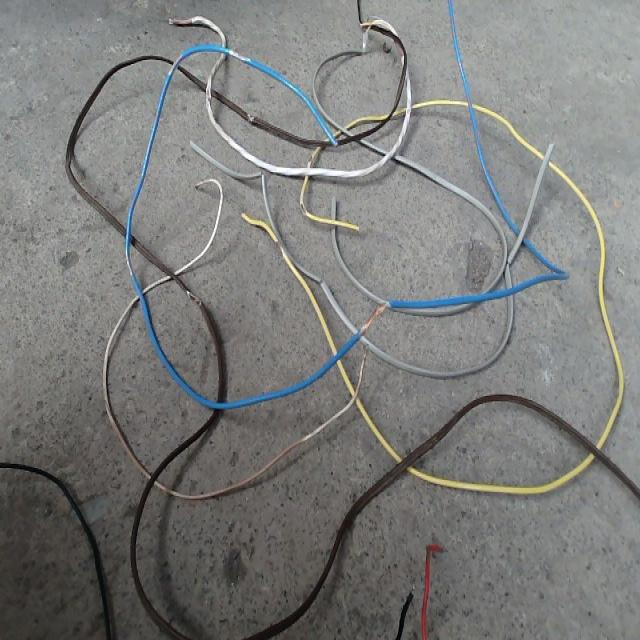-: (357, 300, 389, 336), (185, 288, 201, 304), (300, 202, 307, 214)
